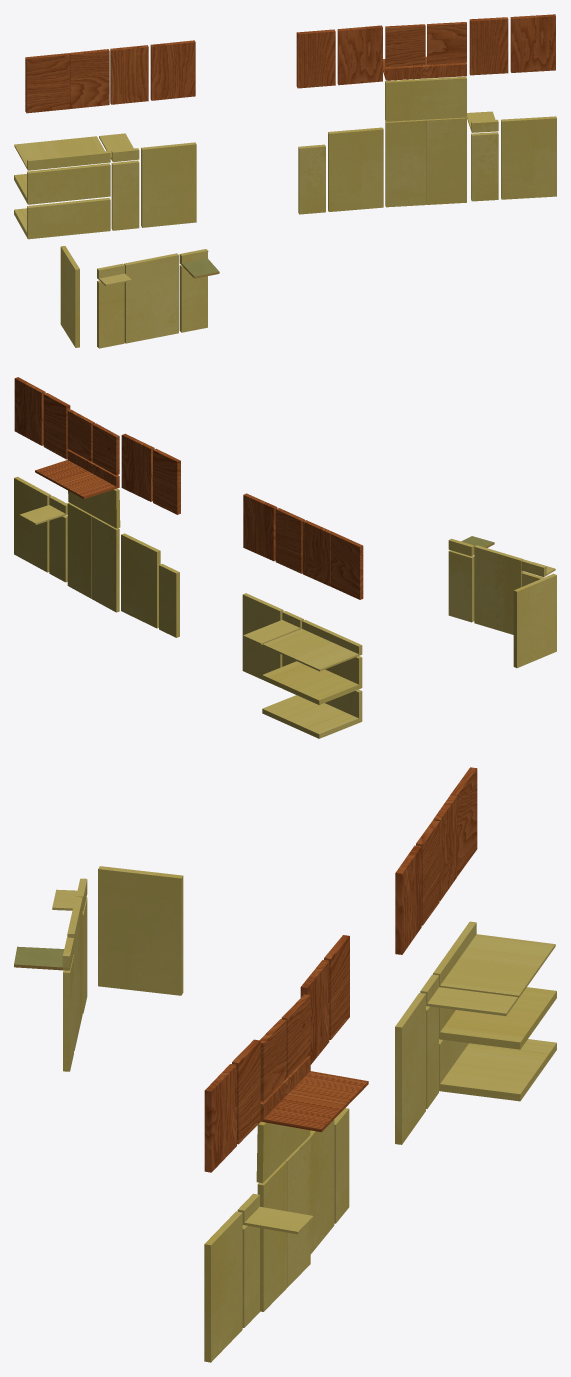
File: mesh_60_kitchen_bits.glb
3 views of the same model, one above another, from view 1: azimuth 30°, elevation 25°; view 2: azimuth 150°, elevation 25°; view 3: azimuth 270°, elevation 25° (orthographic). The views are drawn at different scales.
Visible parts, largest first — view 1: mesh_Cupboard_13.004, mesh_Cupboard_7.002, mesh_Cupboard_13.001, mesh_Cupboard_18.002, mesh_Weird_Cupboard_6.002, mesh_Weird_Cupboard_2.002, mesh_Weird_Board_6.002, mesh_Cupboard_8.002, mesh_Cupboard_12.002, mesh_Cupboard_2.002, mesh_Cupboard_17.001, mesh_Cupboard_17.004 (+19 smaller); view 2: mesh_Cupboard_20.002, mesh_Cupboard_18.002, mesh_Cupboard_13.001, mesh_Cupboard_8.002, mesh_Cupboard_12.002, mesh_Cupboard_10.002, mesh_Cupboard_13.004, mesh_Weird_Cupboard_6.002, mesh_Cupboard_7.002, mesh_Weird_Cupboard_5.002, mesh_Weird_Cupboard_2.002, mesh_Cupboard_4.002 (+16 smaller); view 3: mesh_Cupboard_20.002, mesh_Cupboard_10.002, mesh_Cupboard_8.002, mesh_Cupboard_13.004, mesh_Weird_Cupboard_5.002, mesh_Cupboard_12.002, mesh_Cupboard_7.002, mesh_Weird_Cupboard_2.002, mesh_Cupboard_17.004, mesh_Cupboard_13.001, mesh_Weird_Cupboard_6.002, mesh_Cupboard_2.002 (+17 smaller).
Boxes of the visible parts, box(x1,y1,x2,y2) form: mesh_Cupboard_13.004: box(501, 116, 556, 199); mesh_Cupboard_7.002: box(141, 142, 196, 227); mesh_Cupboard_13.001: box(328, 127, 383, 211); mesh_Cupboard_18.002: box(124, 253, 178, 343); mesh_Weird_Cupboard_6.002: box(385, 119, 426, 207); mesh_Weird_Cupboard_2.002: box(426, 117, 466, 204); mesh_Weird_Board_6.002: box(385, 76, 466, 121); mesh_Cupboard_8.002: box(14, 197, 110, 239); mesh_Cupboard_12.002: box(14, 163, 110, 204); mesh_Cupboard_2.002: box(150, 40, 195, 100); mesh_Cupboard_17.001: box(337, 25, 382, 85); mesh_Cupboard_17.004: box(510, 14, 555, 72); mesh_Cupboard_20.002: box(513, 573, 556, 668); mesh_Cupboard_18.002: box(474, 545, 523, 634); mesh_Cupboard_13.001: box(121, 533, 160, 628); mesh_Cupboard_8.002: box(262, 689, 362, 738); mesh_Cupboard_12.002: box(262, 656, 362, 704); mesh_Cupboard_10.002: box(263, 619, 362, 671); mesh_Cupboard_13.004: box(14, 476, 51, 572); mesh_Weird_Cupboard_6.002: box(92, 516, 119, 612); mesh_Cupboard_7.002: box(242, 593, 283, 685); mesh_Weird_Cupboard_5.002: box(35, 449, 119, 498); mesh_Weird_Cupboard_2.002: box(67, 502, 92, 598); mesh_Cupboard_4.002: box(330, 532, 363, 599); mesh_Cupboard_20.002: box(98, 866, 183, 995); mesh_Cupboard_10.002: box(433, 921, 555, 998); mesh_Cupboard_8.002: box(439, 1039, 556, 1101); mesh_Cupboard_13.004: box(204, 1211, 242, 1362); mesh_Weird_Cupboard_5.002: box(260, 1056, 368, 1132); mesh_Cupboard_12.002: box(439, 987, 556, 1049); mesh_Cupboard_7.002: box(395, 993, 425, 1144); mesh_Weird_Cupboard_2.002: box(257, 1161, 286, 1311); mesh_Cupboard_17.004: box(204, 1064, 236, 1172); mesh_Cupboard_13.001: box(309, 1119, 334, 1254); mesh_Weird_Cupboard_6.002: box(285, 1137, 310, 1287); mesh_Cupboard_2.002: box(395, 845, 421, 954).
Bounding box in the file's own units: 6.64 × 2.23 × 4.02.
Materials: 1 (1 with a texture image).
